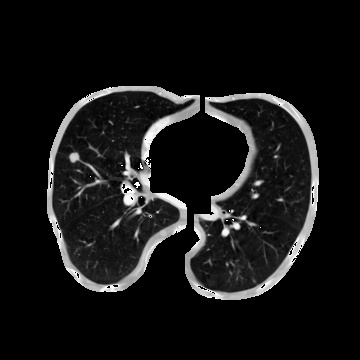PN: (68, 151, 80, 163)
